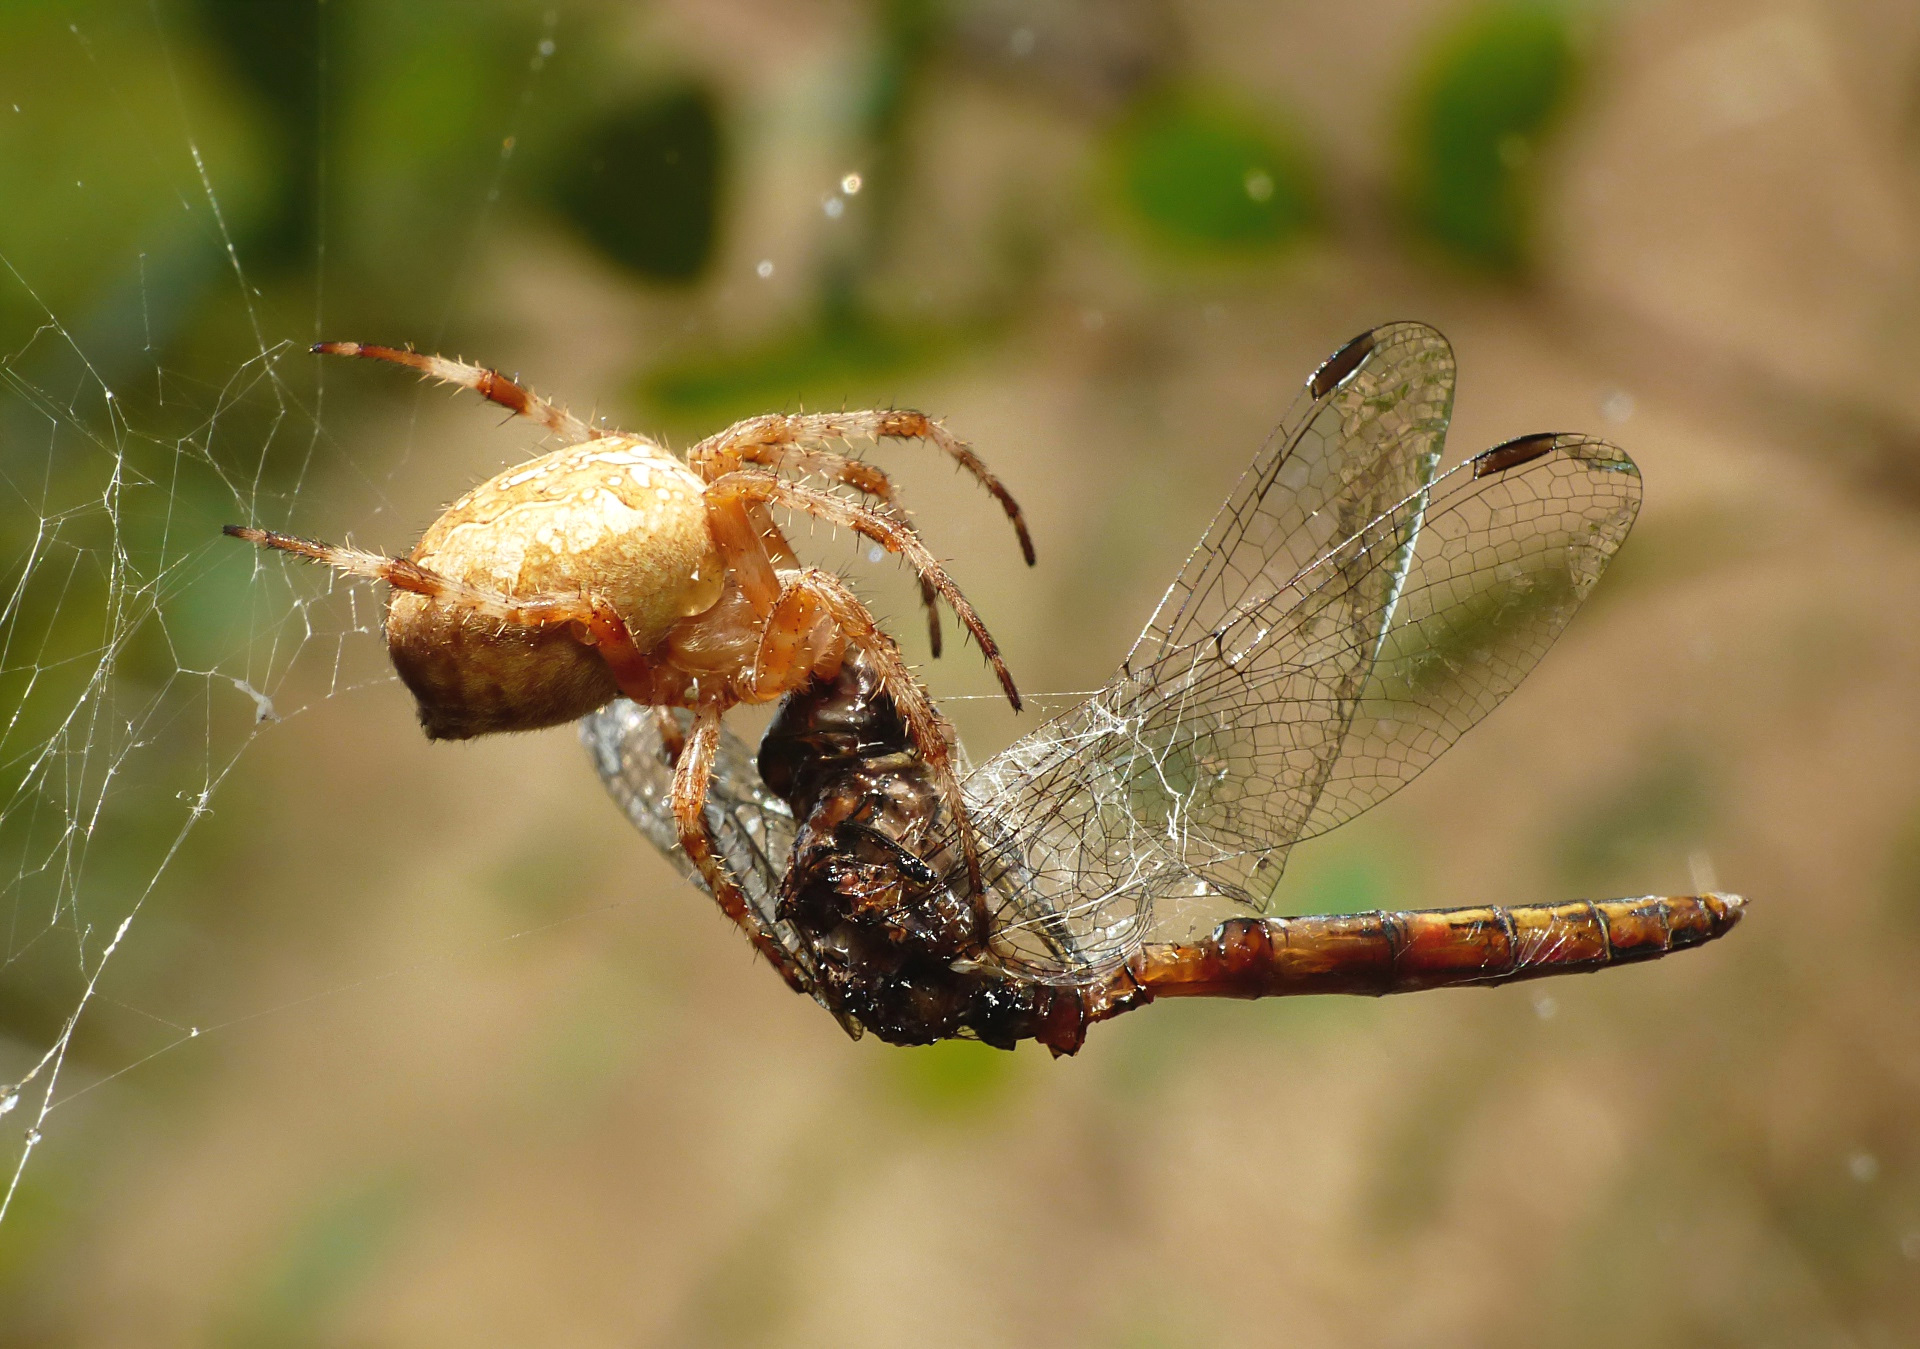spider: (190, 174, 1056, 939)
